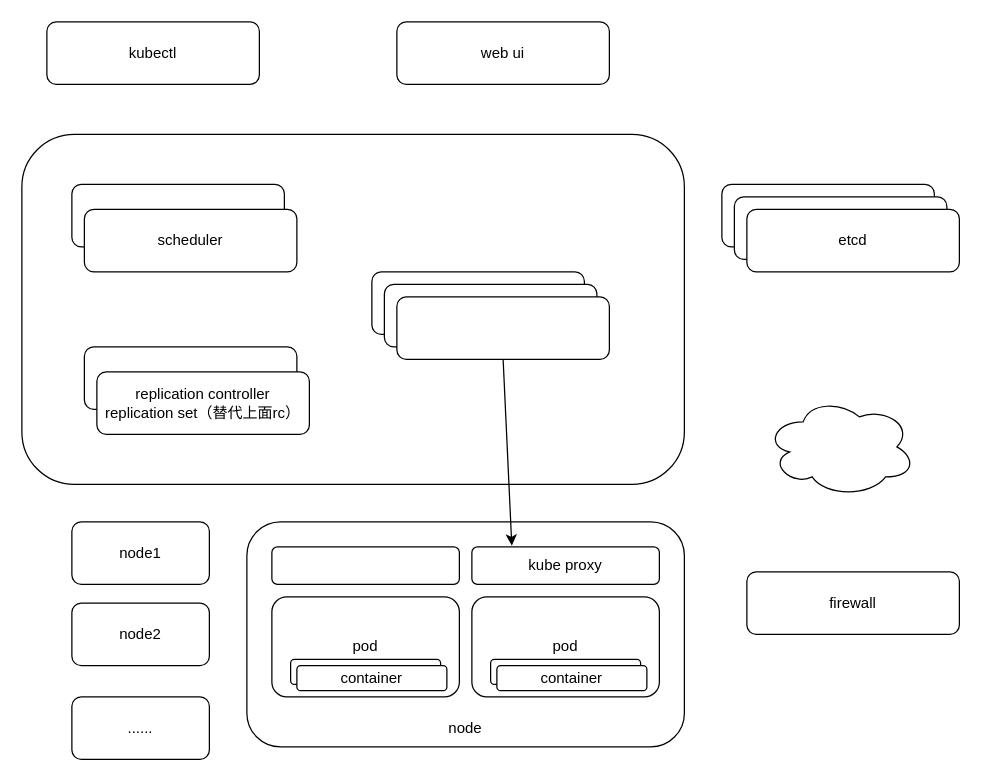
Some shapes in this 981 by 781 pixel diagram are drawn without their labels. Each missing label, with the box of its shape:
api server: (396, 296, 609, 359)
internet: (764, 396, 916, 497)
kubelet: (271, 546, 459, 584)
